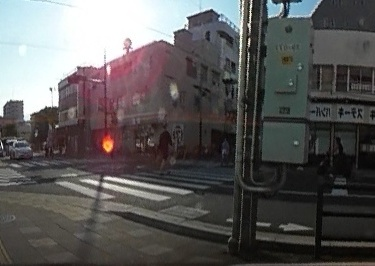person: (156, 123, 174, 178), (333, 135, 346, 166), (220, 136, 231, 163)
